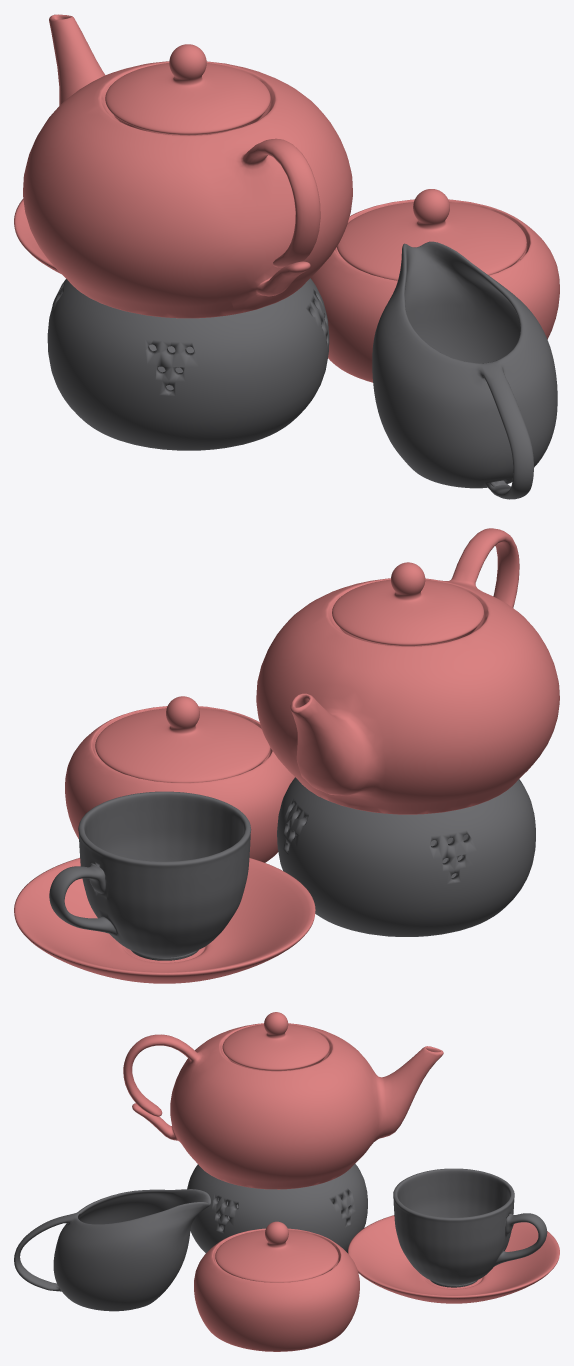
Rendered from 18pcs-desk.glb.
3 renders of one model, top to bottom at view 1: azimuth 30°, elevation 25°; view 2: azimuth 150°, elevation 25°; view 3: azimuth 270°, elevation 25°, orthographic. The views are drawn at different scales.
Visible parts, largest first — view 1: Cylinder.001, Cylinder.007, Circle.001, Circle.002, Sphere.014, Sphere.015, NAALBAKI; view 2: Cylinder.001, Circle.001, CUP, NAALBAKI, Sphere.014, Circle.002, Sphere.015; view 3: Cylinder.001, Cylinder.007, CUP, Circle.002, Circle.001, NAALBAKI, Sphere.014, Sphere.015.
Part boxes in pixels (x1,y1,x2,y2): Cylinder.001: (23,14,352,318); Cylinder.007: (372,241,557,499); Circle.001: (47,278,329,450); Circle.002: (310,199,559,382); Sphere.014: (336,189,526,280); Sphere.015: (105,44,270,134); NAALBAKI: (14,199,60,273); Cylinder.001: (256,528,559,814); Circle.001: (277,777,535,936); CUP: (49,791,251,960); NAALBAKI: (14,858,315,983); Sphere.014: (95,696,270,782); Circle.002: (65,706,294,862); Sphere.015: (332,562,483,645); Cylinder.001: (123,1023,443,1189); Cylinder.007: (14,1189,210,1311); CUP: (393,1168,547,1287); Circle.002: (194,1228,359,1351); Circle.001: (187,1163,367,1253); NAALBAKI: (348,1215,559,1303); Sphere.014: (215,1221,338,1282); Sphere.015: (222,1012,329,1070).
Bounding box in the file's own units: 0.2465 × 0.1704 × 0.3615.
